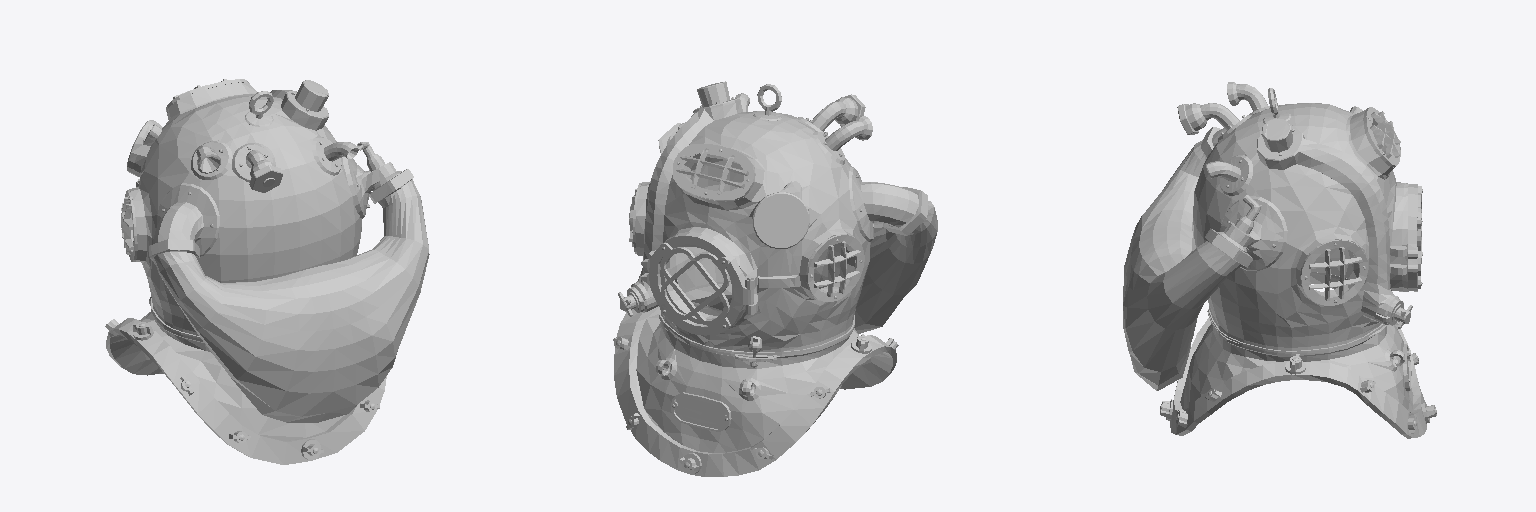
File: Escafandra.obj
3 renders of one model, left to right at view 1: azimuth 30°, elevation 25°; view 2: azimuth 150°, elevation 25°; view 3: azimuth 270°, elevation 25°, orthographic.
Parts seen in each view (by area): view 1: Tubes:Tank_Tubes:Tank, Head_Head, Chest_Chest, Tubes:BigTubeL_Tubes:BigTubeL, Tubes:BigTubeR_Tubes:BigTubeR, Tubes:SideTubeL_Tubes:SideTubeL, Tubes:MidTube_Tubes:MidTube, Tubes:SideTubeR_Tubes:SideTubeR, Tubes:Nut_Tubes:Nut; view 2: Head_Head, Chest_Chest, Tubes:Tank_Tubes:Tank, FrontWindow:WindowBase_FrontWindow:WindowBase, Tubes:BigTubeL_Tubes:BigTubeL, FrontWindow:Grid_FrontWindow:Grid, Plate:Plate_Plate:Plate, TopWindow:Base_TopWindow:Base, WindowL:Circle_WindowL:Circle, Tubes:SideTubeL_Tubes:SideTubeL, Tubes:MidTube_Tubes:MidTube, WindowL:Bars_WindowL:Bars (+2 smaller); view 3: Head_Head, Tubes:Tank_Tubes:Tank, Chest_Chest, Tubes:BigTubeR_Tubes:BigTubeR, WindowR:Circle_WindowR:Circle, Tubes:SideTubeR_Tubes:SideTubeR, Tubes:MidTube_Tubes:MidTube, FrontWindow:WindowBase_FrontWindow:WindowBase, WindowR:Bars_WindowR:Bars, Tubes:SideTubeL_Tubes:SideTubeL, Valve_Valve, TopWindow:Bars_TopWindow:Bars (+1 smaller).
Part boxes in pixels (x1,y1,x2,y2): Tubes:Tank_Tubes:Tank: (149,169,429,422); Head_Head: (127,80,361,339); Chest_Chest: (106,297,386,464); Tubes:BigTubeL_Tubes:BigTubeL: (153,183,219,256); Tubes:BigTubeR_Tubes:BigTubeR: (342,142,401,218); Tubes:SideTubeL_Tubes:SideTubeL: (191,140,232,179); Tubes:MidTube_Tubes:MidTube: (232,143,275,186); Tubes:SideTubeR_Tubes:SideTubeR: (312,136,358,175); Tubes:Nut_Tubes:Nut: (249,165,282,192); Head_Head: (635,81,870,354); Chest_Chest: (614,281,896,476); Tubes:Tank_Tubes:Tank: (658,123,937,333); FrontWindow:WindowBase_FrontWindow:WindowBase: (641,232,753,335); Tubes:BigTubeL_Tubes:BigTubeL: (849,167,918,241); FrontWindow:Grid_FrontWindow:Grid: (659,242,730,330); Plate:Plate_Plate:Plate: (671,392,731,431); TopWindow:Base_TopWindow:Base: (673,144,755,201); WindowL:Circle_WindowL:Circle: (806,234,864,301); Tubes:SideTubeL_Tubes:SideTubeL: (813,116,872,164); Tubes:MidTube_Tubes:MidTube: (798,97,857,132); WindowL:Bars_WindowL:Bars: (814,241,860,296); Head_Head: (1193,103,1408,353); Tubes:Tank_Tubes:Tank: (1123,127,1252,390); Chest_Chest: (1170,272,1426,438); Tubes:BigTubeR_Tubes:BigTubeR: (1218,195,1287,270); WindowR:Circle_WindowR:Circle: (1300,239,1367,305); Tubes:SideTubeR_Tubes:SideTubeR: (1205,155,1252,195); Tubes:MidTube_Tubes:MidTube: (1186,103,1251,140); FrontWindow:WindowBase_FrontWindow:WindowBase: (1408,184,1417,291); WindowR:Bars_WindowR:Bars: (1309,247,1362,300); Tubes:SideTubeL_Tubes:SideTubeL: (1227,82,1278,114); Valve_Valve: (1375,295,1412,328); TopWindow:Bars_TopWindow:Bars: (1370,111,1400,158).
Bounding box in the file's own units: 2.16 × 2.6 × 2.21.